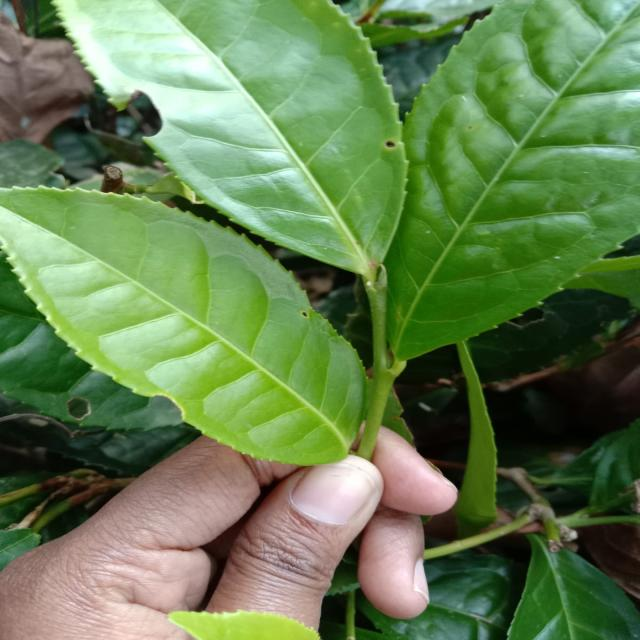Category C(4-7 days): (0, 172, 383, 489)
